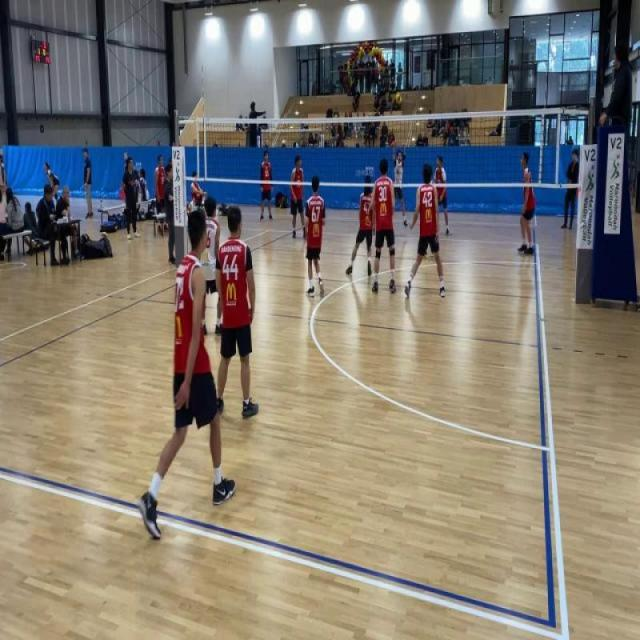volleyball: (394, 90, 402, 106), (101, 231, 108, 239)
